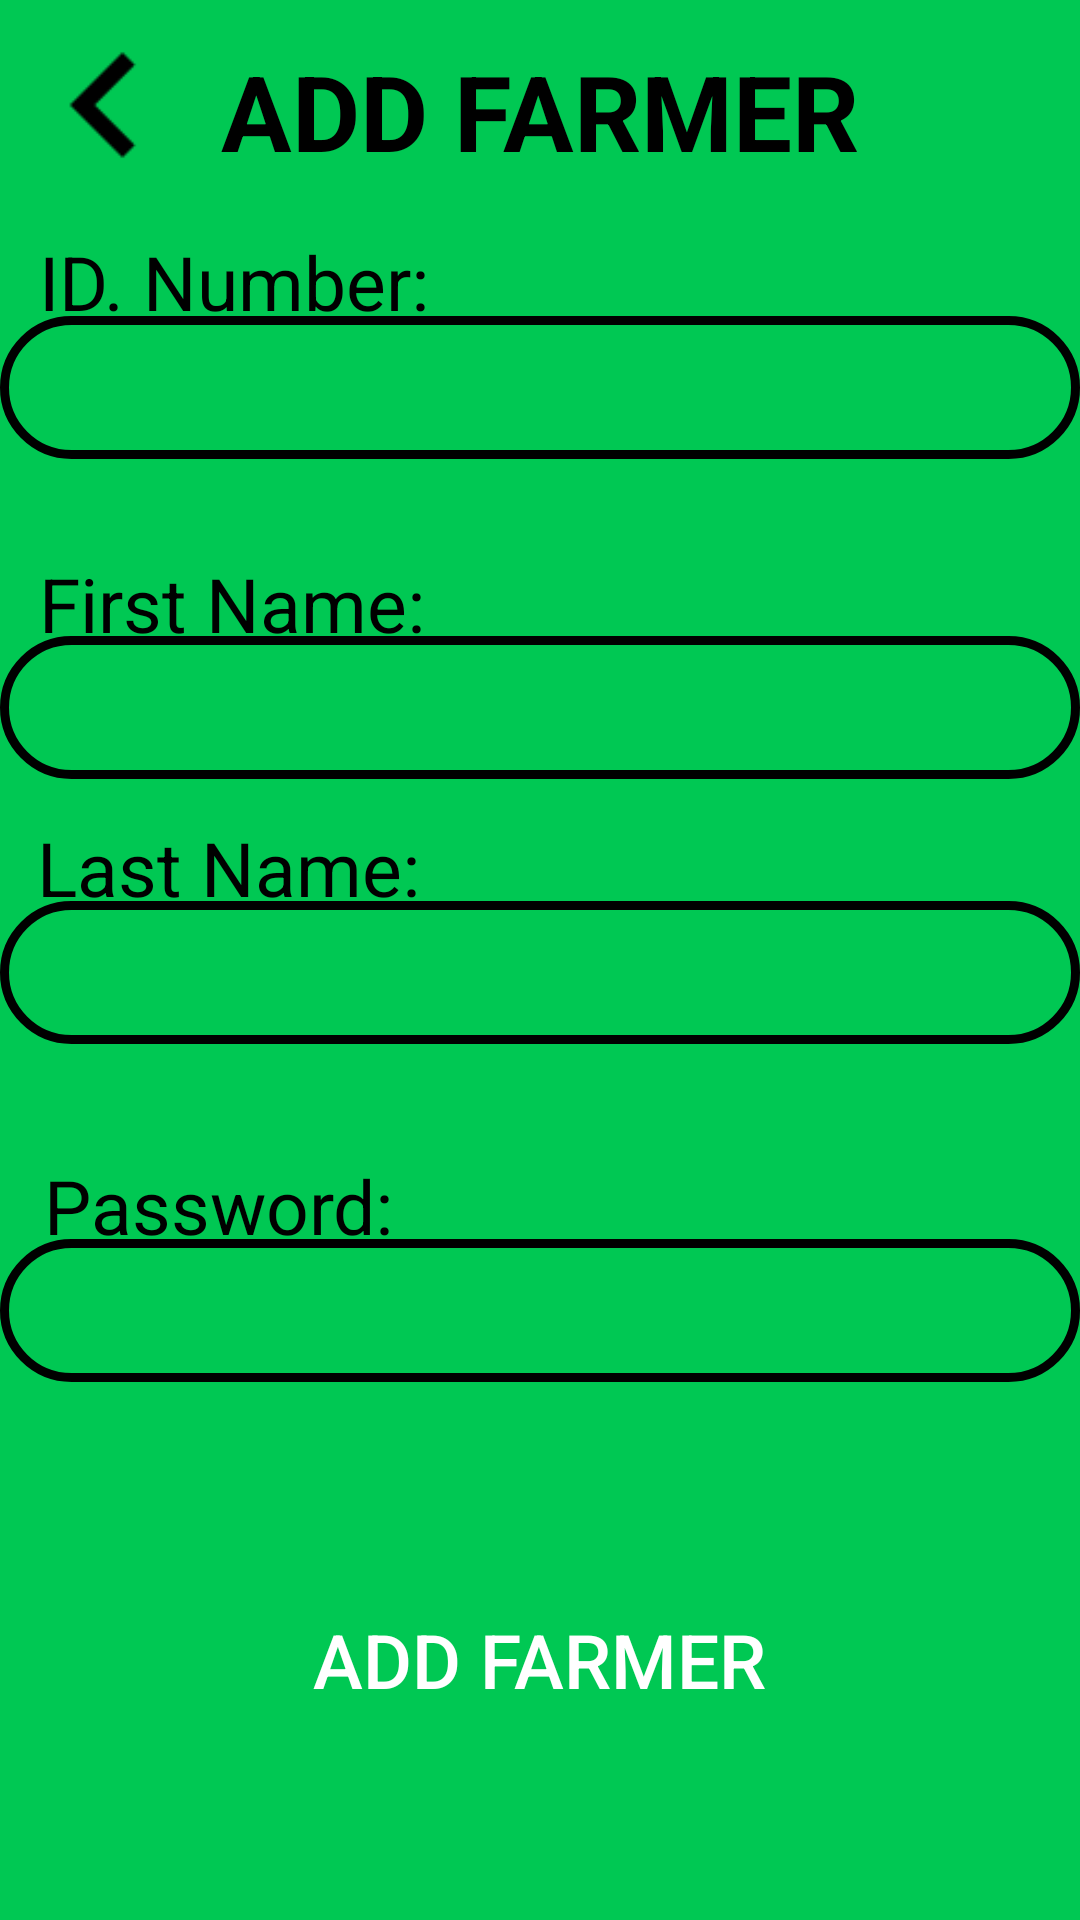

Named icons in this screenshot (1080 x 1920) and their centers, (x=x, y=y):
next reversed: (x=102, y=105)
